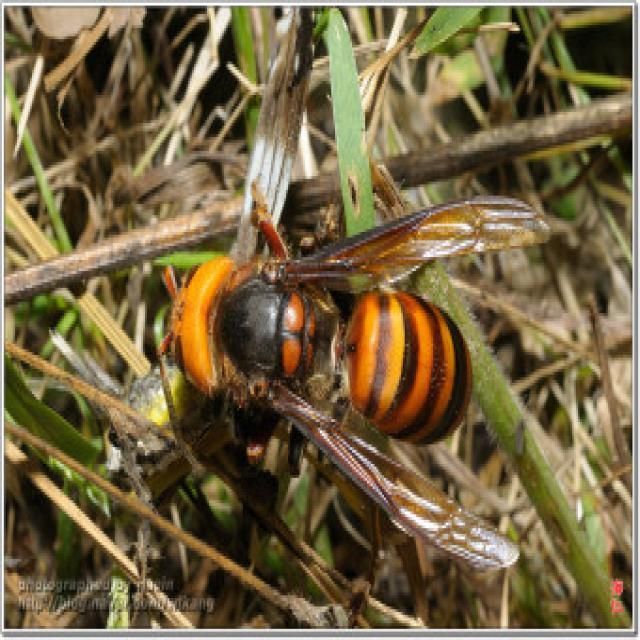Wasp: (142, 190, 533, 570)
